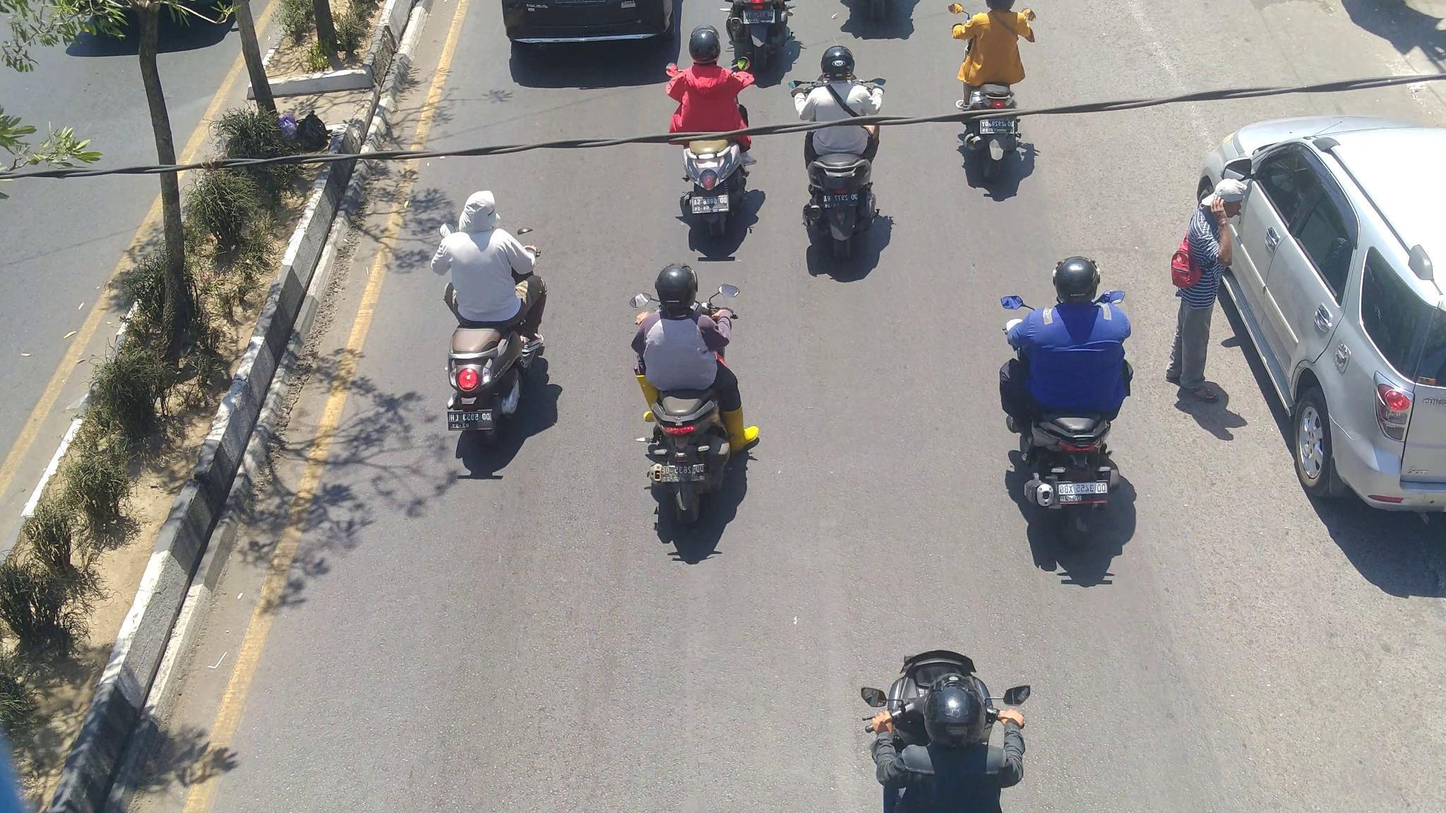Helmet: (919, 677, 992, 754), (649, 256, 701, 316), (1049, 254, 1107, 307), (682, 23, 727, 68), (816, 41, 859, 87)
bike: (997, 284, 1131, 530), (629, 279, 748, 526), (438, 218, 541, 439), (784, 67, 890, 264), (665, 56, 765, 238), (945, 0, 1039, 181)
no-helmet: (455, 187, 505, 234)
number-plate: (446, 407, 494, 434), (1052, 477, 1109, 498), (654, 464, 705, 484), (816, 192, 866, 212), (687, 192, 730, 214), (978, 117, 1015, 134), (743, 11, 775, 25)
rider: (629, 261, 761, 457), (861, 676, 1033, 813), (1006, 253, 1132, 434), (430, 187, 551, 355), (790, 45, 890, 173), (665, 26, 759, 160), (952, 0, 1031, 107)
